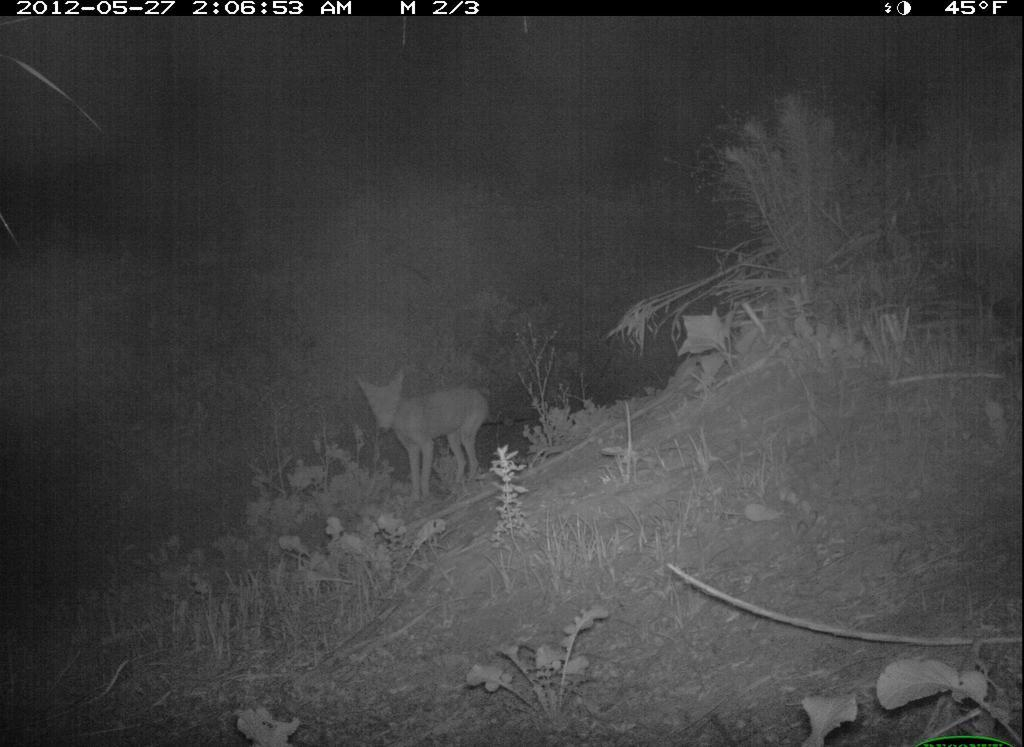coyote: (358, 363, 500, 498)
